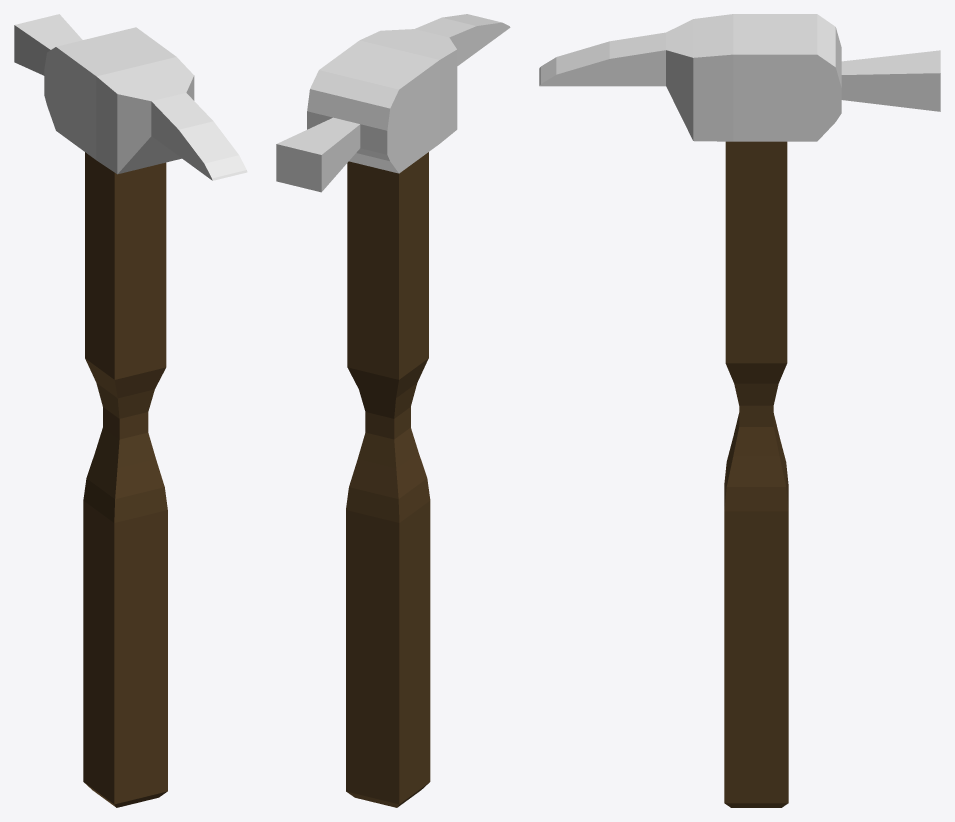
Rendered from hammer-smallhit.glb.
3 views of the same model, side by side, from view 1: azimuth 30°, elevation 25°; view 2: azimuth 150°, elevation 25°; view 3: azimuth 270°, elevation 25° (orthographic). The views are drawn at different scales.
Visible parts, largest first — view 1: hammer_smallhit; view 2: hammer_smallhit; view 3: hammer_smallhit.
Boxes of the visible parts, box(x1,y1,x2,y2) form: hammer_smallhit: box(14, 14, 247, 807); hammer_smallhit: box(276, 14, 510, 807); hammer_smallhit: box(539, 14, 940, 807).
Bounding box in the file's own units: 1.41 × 12.34 × 5.89.
